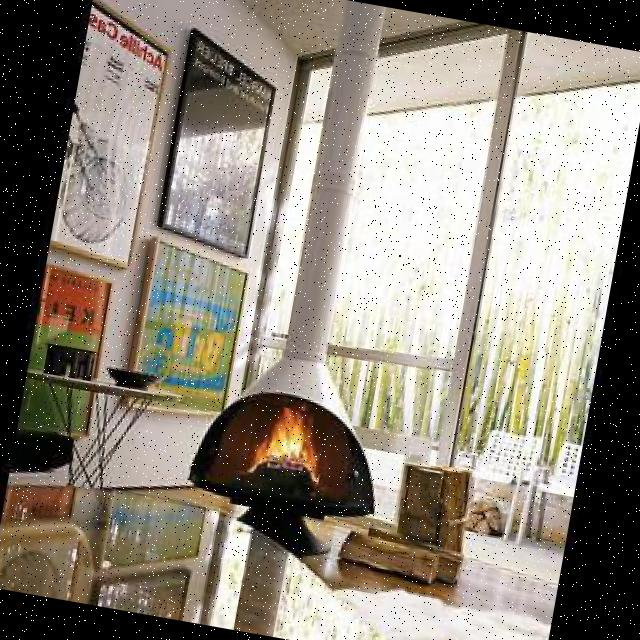fire: (240, 402, 330, 508)
